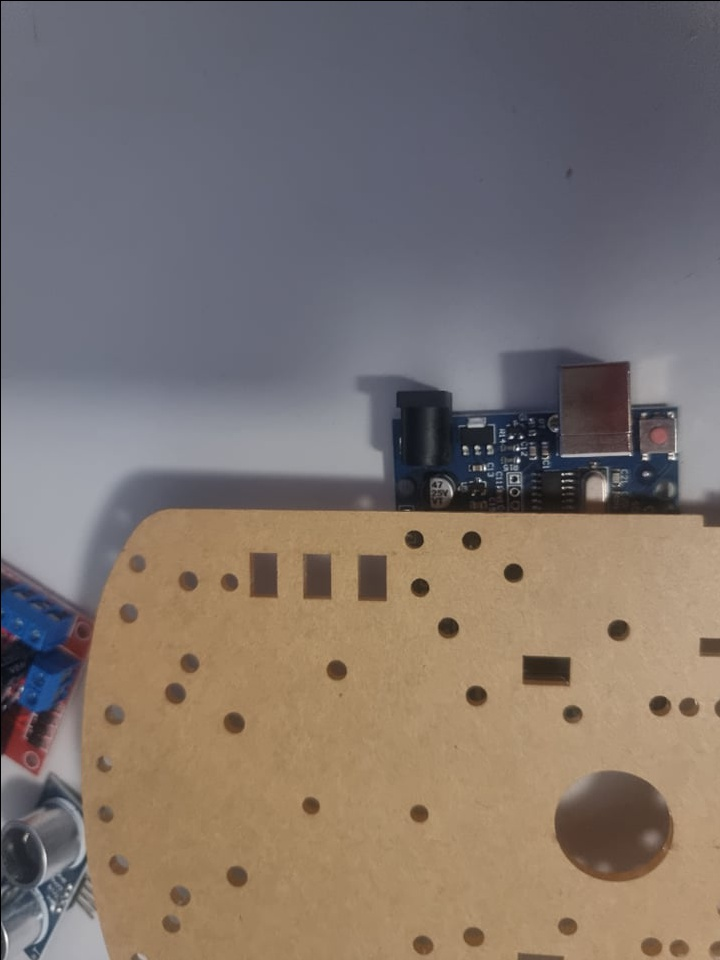UNO R3: (371, 351, 685, 520)
